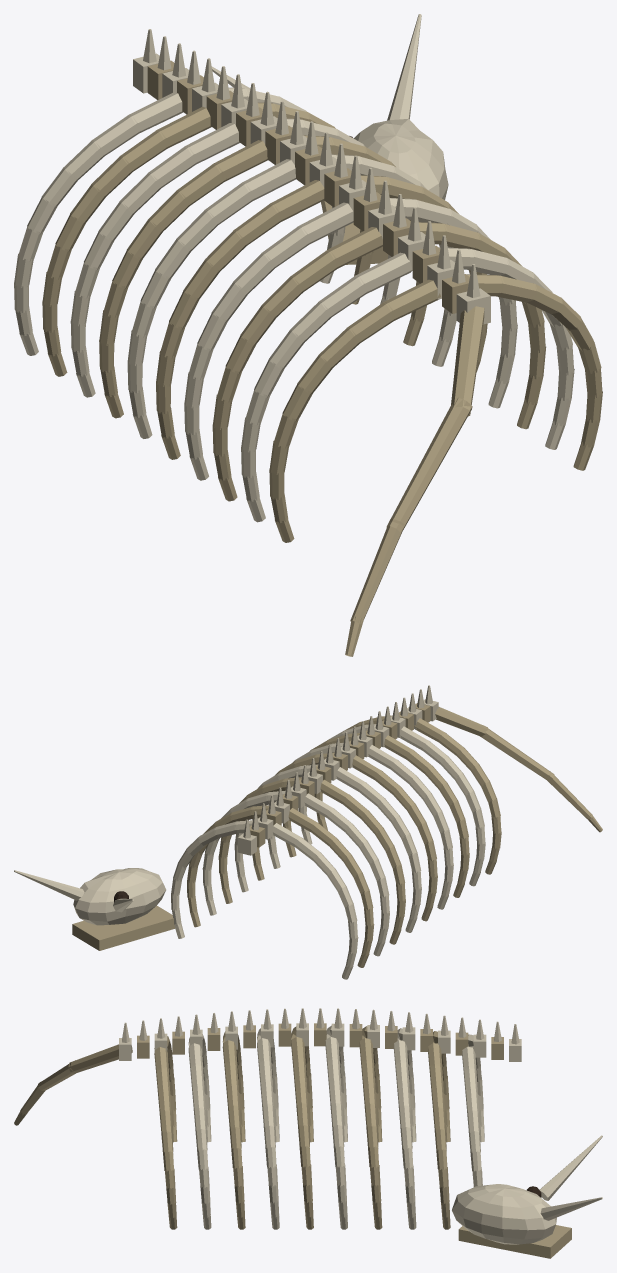
The model's file is colosso_costelas.glb.
3 views of the same model, one above another, from view 1: azimuth 30°, elevation 25°; view 2: azimuth 150°, elevation 25°; view 3: azimuth 270°, elevation 25° (orthographic). The views are drawn at different scales.
Visible parts, largest first — view 1: colosso_costelas; view 2: colosso_costelas; view 3: colosso_costelas.
Boxes of the visible parts, x1,y1,x2,y2 form: colosso_costelas: (14, 14, 602, 656); colosso_costelas: (14, 685, 602, 979); colosso_costelas: (14, 1008, 602, 1258).
Size of the model in its own units: 309 by 157 by 465.
